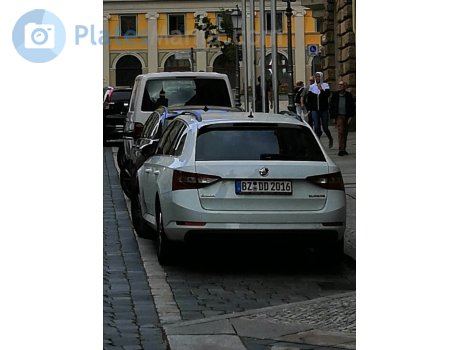License Plates: (242, 178, 293, 189)
